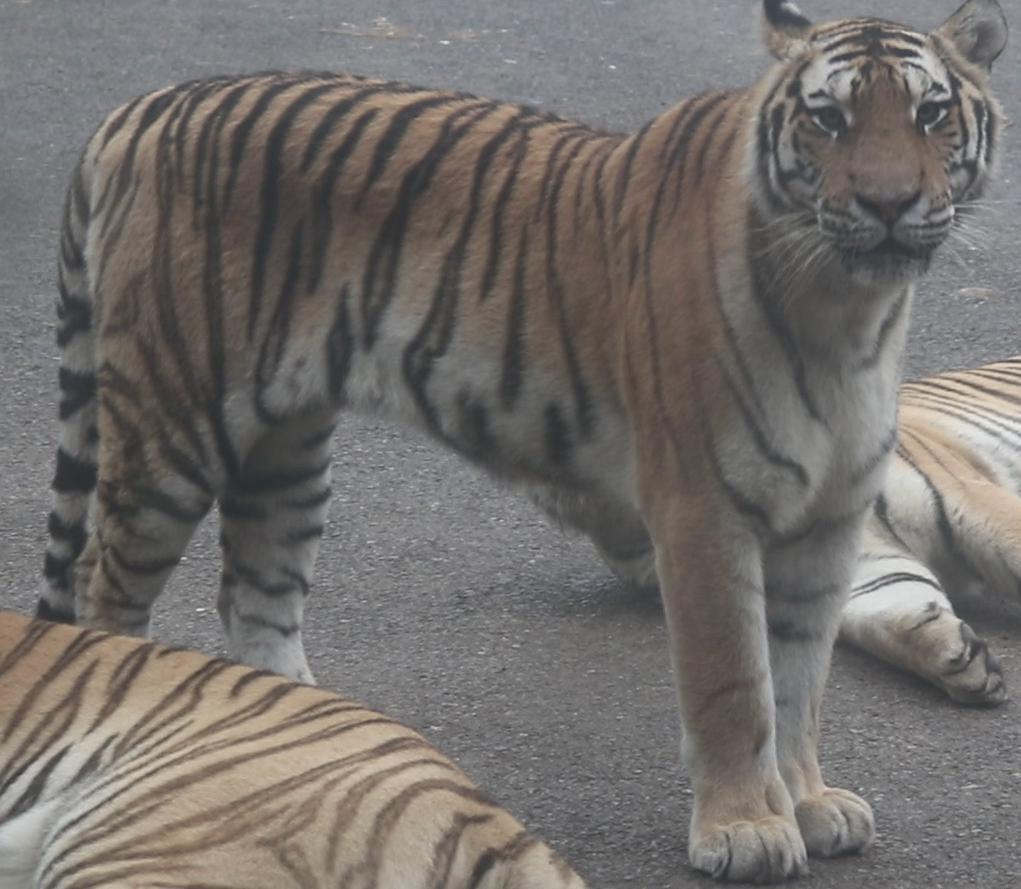tiger: (36, 0, 1006, 879)
